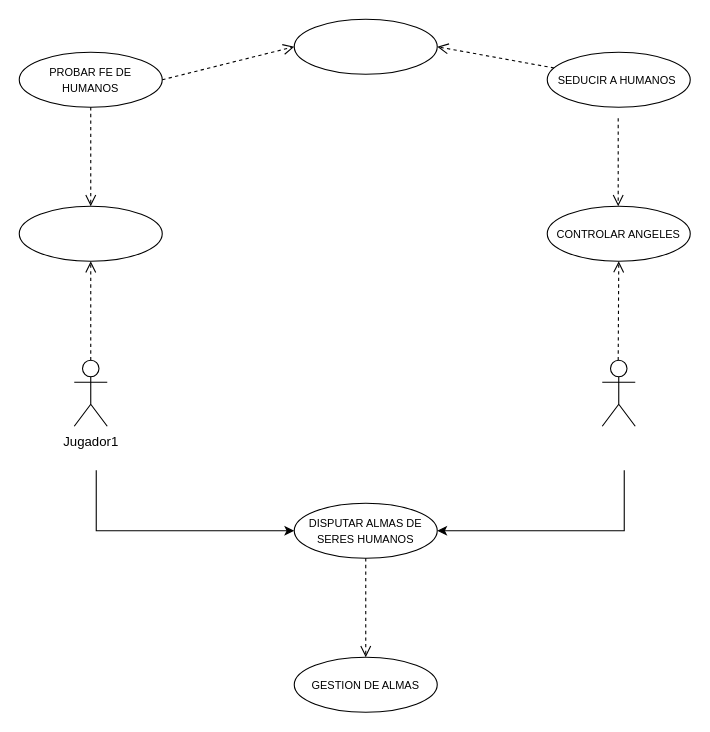
Image size: 710x732. Some labels were removed from this diagram. The shapes that lost their labels are listed below. From the top down, each one's box as (x1, y1, x2, y2) in pixels, then its label:
(293, 18, 437, 74): PRUEBA VOLUNTAD
(18, 205, 162, 261): CONTROLAR DEMONIOS
(601, 359, 635, 426): Jugador2
